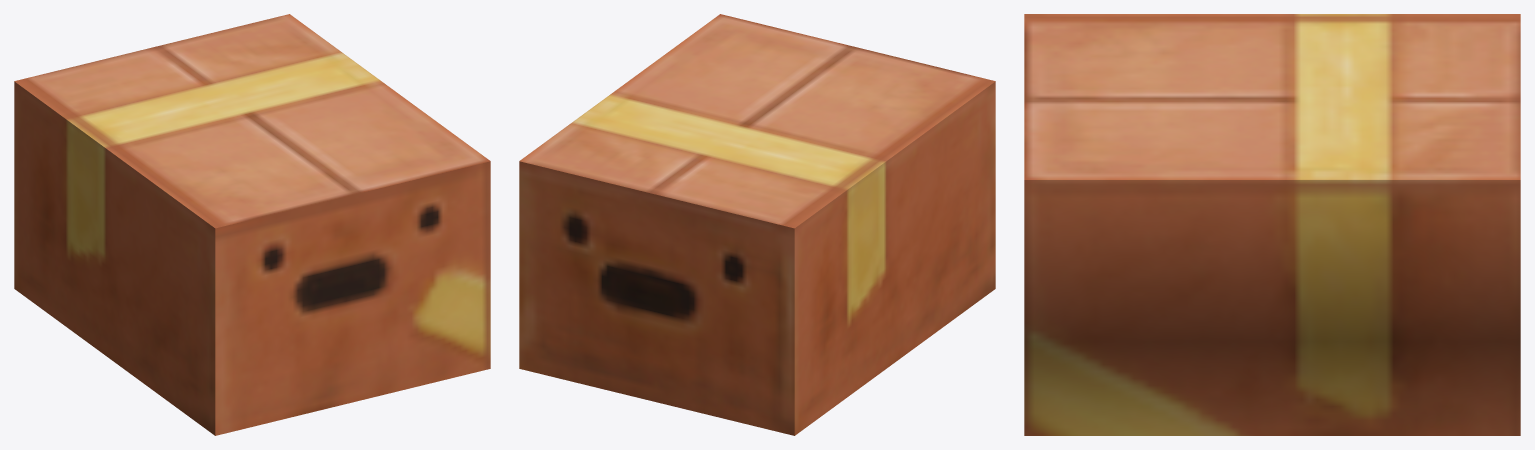
Rendered from a_sefire04.glb.
3 renders of one model, left to right at view 1: azimuth 30°, elevation 25°; view 2: azimuth 150°, elevation 25°; view 3: azimuth 270°, elevation 25°, orthographic. The views are drawn at different scales.
Visible parts, largest first — view 1: a_sefire04; view 2: a_sefire04; view 3: a_sefire04.
Part boxes in pixels (x1,y1,x2,y2): a_sefire04: (14, 14, 490, 435); a_sefire04: (519, 14, 995, 435); a_sefire04: (1024, 14, 1520, 435).
Size of the model in its own units: 0.5989 by 0.4311 by 0.7573.
1 material, 1 textured.
